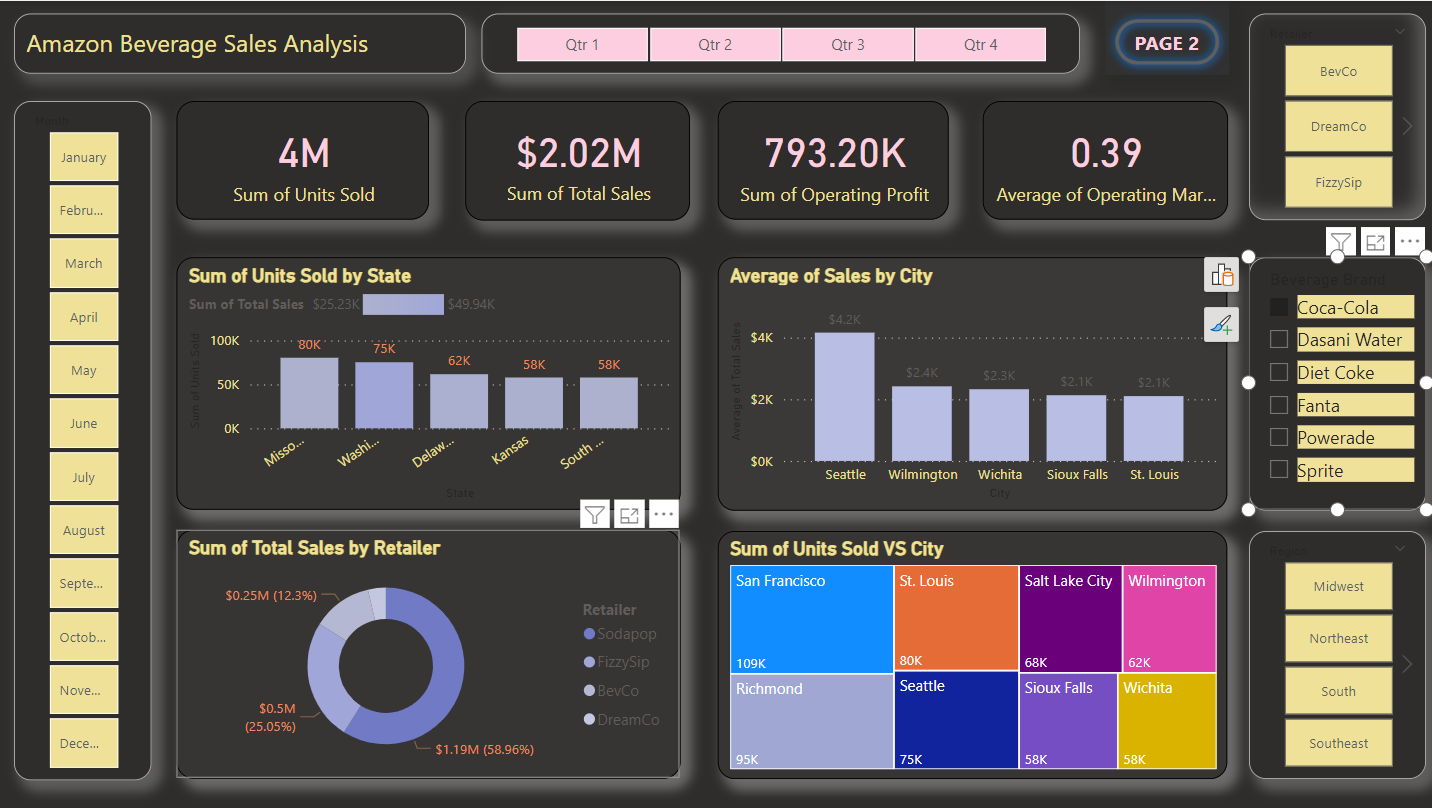

The dashboard page shown, as its layout file describes it:
{"tool":"powerbi","page":{"name":"EDA 1","canvas":[1280,720],"ordinal":0},"visuals":[{"type":"slicer","fields":{"Values":["coca_cola.Invoice Date.Variation.Date Hierarchy.Month"]},"box":[13.3,88.9,122.2,604.4],"z":0},{"type":"slicer","fields":{"Values":["coca_cola.Invoice Date.Variation.Date Hierarchy.Quarter"]},"box":[429.5,11,532.4,53.5],"z":1000},{"type":"slicer","fields":{"Values":["coca_cola.Region"]},"box":[1113.3,472.2,157.8,221.1],"z":2000},{"type":"slicer","fields":{"Values":["coca_cola.Retailer"]},"box":[1112.9,11,157.8,183.9],"z":3000},{"type":"slicer","fields":{"Values":["coca_cola.Beverage Brand"]},"box":[1113.2,227.9,158,225.5],"z":4000},{"type":"clusteredColumnChart","fields":{"Y":["Sum(coca_cola.Units Sold)"],"Category":["coca_cola.State"]},"box":[157.8,227.8,448.7,225],"z":5000},{"type":"clusteredColumnChart","title":"Average of Sales by City","fields":{"Category":["coca_cola.City"],"Y":["Avg(coca_cola.Total Sales)"]},"box":[640,227.8,453.3,225.6],"z":6000},{"type":"card","fields":{"Values":["Sum(coca_cola.Operating Profit)"]},"box":[639.5,89.2,205.8,105.7],"z":7000},{"type":"card","fields":{"Values":["Sum(coca_cola.Total Sales)"]},"box":[415,88.8,200,106.2],"z":8000},{"type":"card","fields":{"Values":["Sum(coca_cola.Units Sold)"]},"box":[157.8,89.2,225,105.7],"z":9000},{"type":"card","fields":{"Values":["Avg(coca_cola.Operating Margin)"]},"box":[875.5,89.2,218.2,105.7],"z":10000},{"type":"donutChart","fields":{"Y":["Sum(coca_cola.Total Sales)"],"Category":["coca_cola.Retailer"]},"box":[157.5,471.2,448.8,221.2],"z":11000},{"type":"treemap","title":"Sum of Units Sold VS City","fields":{"Values":["Sum(coca_cola.Units Sold)"],"Group":["coca_cola.City"]},"box":[640,472.2,453.3,221.1],"z":12000},{"type":"textbox","box":[13.7,11,402.1,53.5],"z":13000},{"type":"actionButton","title":"PAGE 2","box":[984.4,0,110,65.6],"z":14000}]}

Visuals, with their boxes in screenshot pixels (x1, y1, x2, y2), scaled from the page's 1280x720 canvas onto the 1432x808 screenshot:
slicer - coca_cola.Invoice Date.Variation.Date Hierarchy.Month: 15:100:152:778
slicer - coca_cola.Invoice Date.Variation.Date Hierarchy.Quarter: 481:12:1076:72
slicer - coca_cola.Region: 1246:530:1422:778
slicer - coca_cola.Retailer: 1245:12:1422:219
slicer - coca_cola.Beverage Brand: 1245:256:1422:509
clusteredColumnChart - Sum(coca_cola.Units Sold) x coca_cola.State: 177:256:679:508
"Average of Sales by City" clusteredColumnChart: 716:256:1223:509
card - Sum(coca_cola.Operating Profit): 715:100:946:219
card - Sum(coca_cola.Total Sales): 464:100:688:219
card - Sum(coca_cola.Units Sold): 177:100:428:219
card - Avg(coca_cola.Operating Margin): 979:100:1224:219
donutChart - Sum(coca_cola.Total Sales) x coca_cola.Retailer: 176:529:678:777
"Sum of Units Sold VS City" treemap: 716:530:1223:778
textbox: 15:12:465:72
"PAGE 2" actionButton: 1101:0:1224:74
